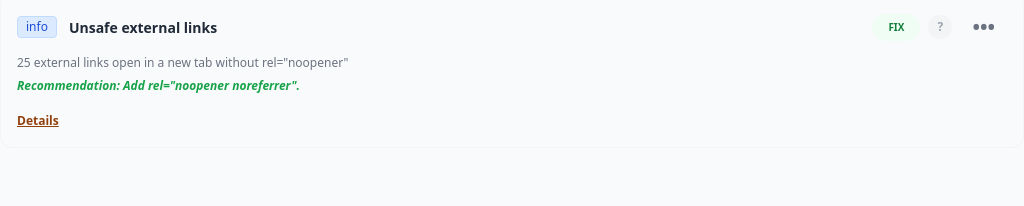
Scenario: D6 the Page Audit shows which items are the problem › says so when the finding is about the page itself
Click the button "Details" at {"x": 38, "y": 120}, box x1=17 y1=112 x2=59 y2=128
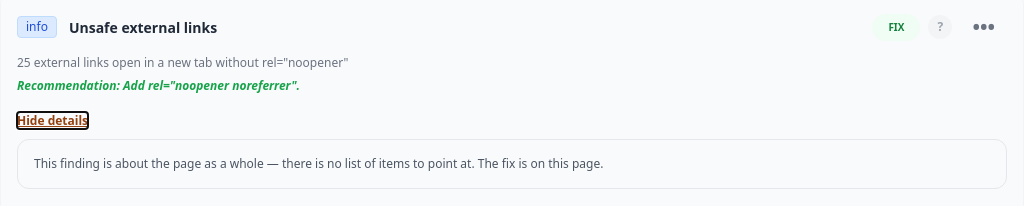
Now the text "about the page as a whole" is shown, box x1=34 y1=154 x2=603 y2=172
